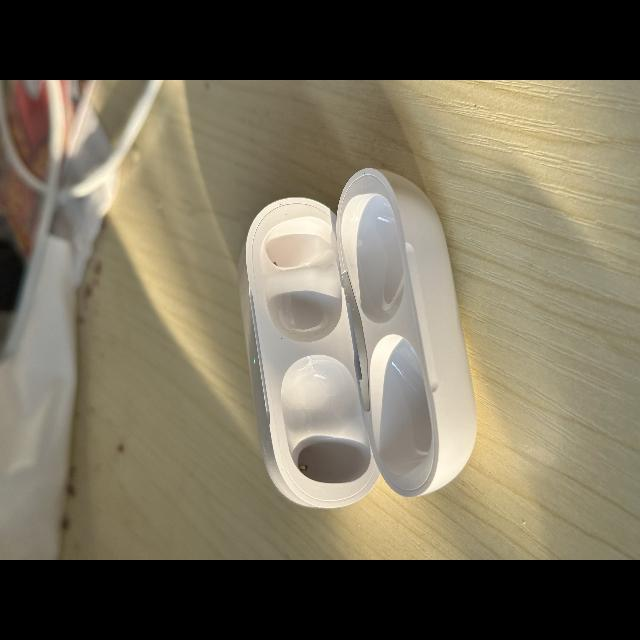AirPods Pro: (239, 168, 477, 508)
